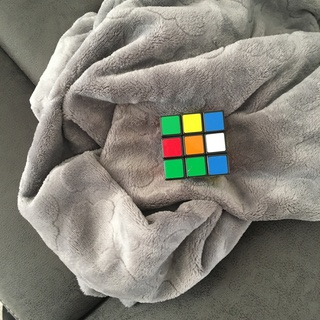face: (160, 111, 229, 180)
